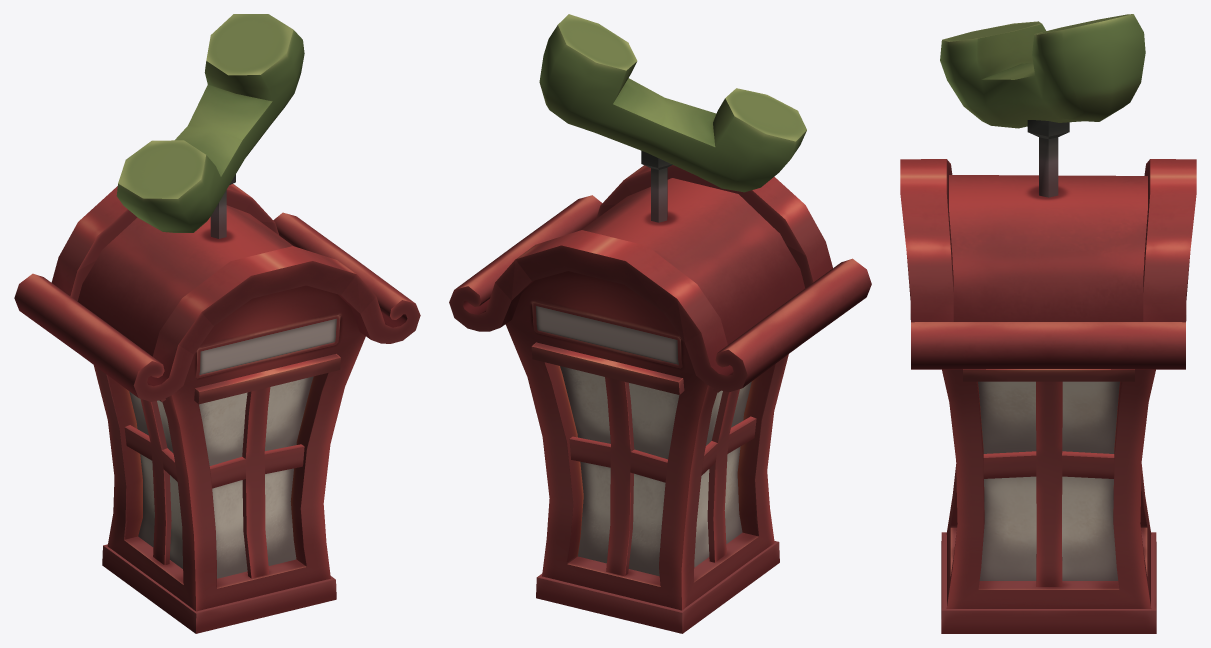
The model's file is CallingBox.fbx.
The picture shows the model from 3 angles, left to right: view 1: azimuth 30°, elevation 25°; view 2: azimuth 150°, elevation 25°; view 3: azimuth 270°, elevation 25°; orthographic projection. The views are drawn at different scales.
Visible parts, largest first — view 1: CallingBox001; view 2: CallingBox001; view 3: CallingBox001.
Boxes of the visible parts, x1,y1,x2,y2 form: CallingBox001: (14,14,420,633); CallingBox001: (449,14,871,633); CallingBox001: (900,14,1196,633).
Bounding box in the file's own units: 107 × 189 × 82.8.
